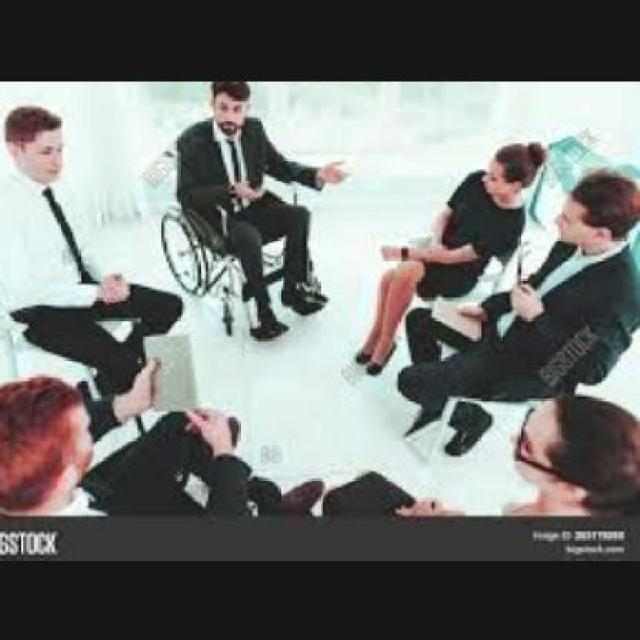wheelchairs: (147, 144, 351, 337)
